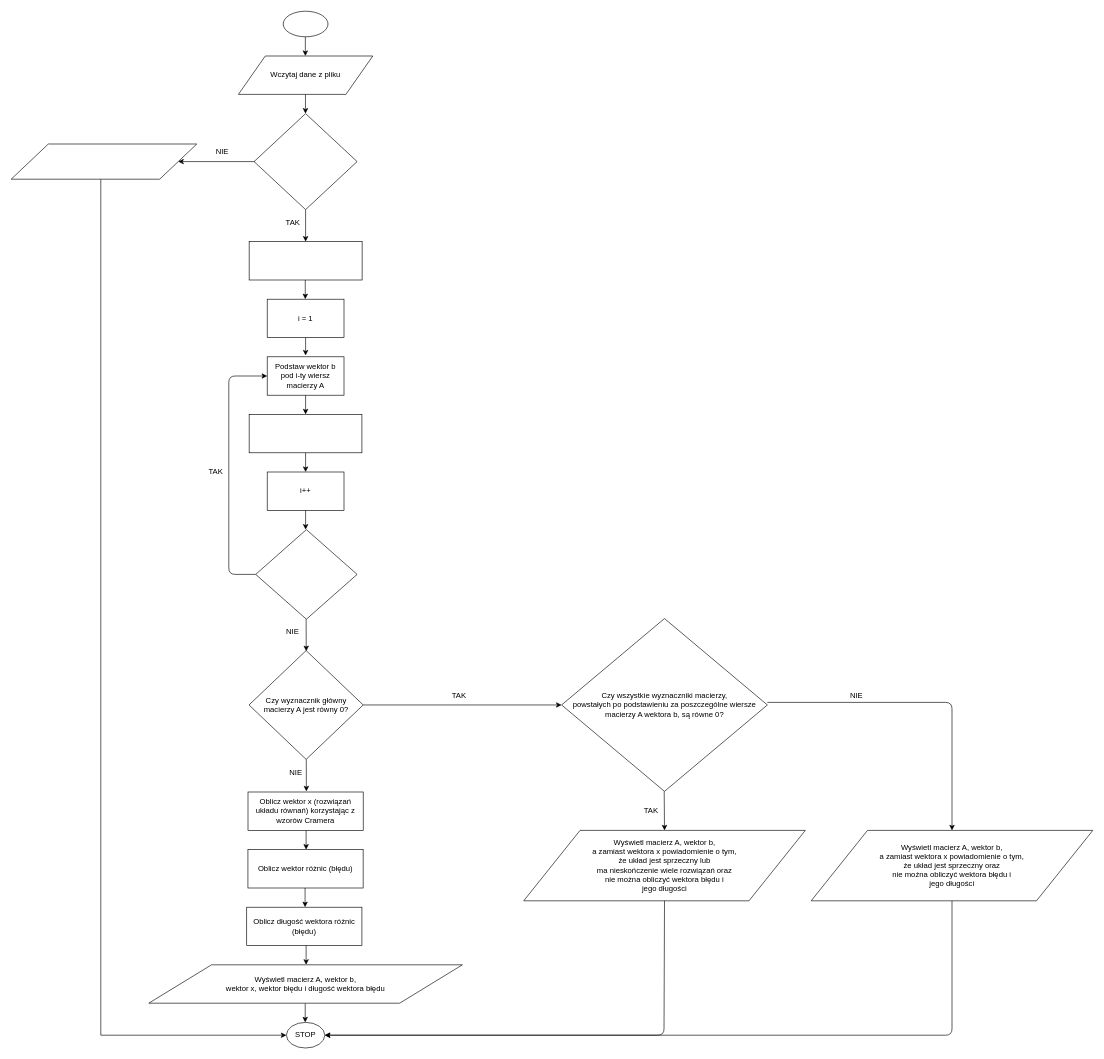
Some shapes in this 1104 by 1059 pixel diagram are drawn without their labels. The centre of each missing label's shape, as x and y in pixels:
Czy i < (ROZMIAR + 1)?: (x=306, y=574)
Czy wczytywanie powiodło się?: (x=305, y=161)
Oblicz wyznacznik główny macierzy A: (x=305, y=260)
Oblicz wyznacznik takiej macierzy: (x=305, y=433)
START: (x=305, y=24)
Wyświetl komunikat o błędzie: (x=104, y=161)
